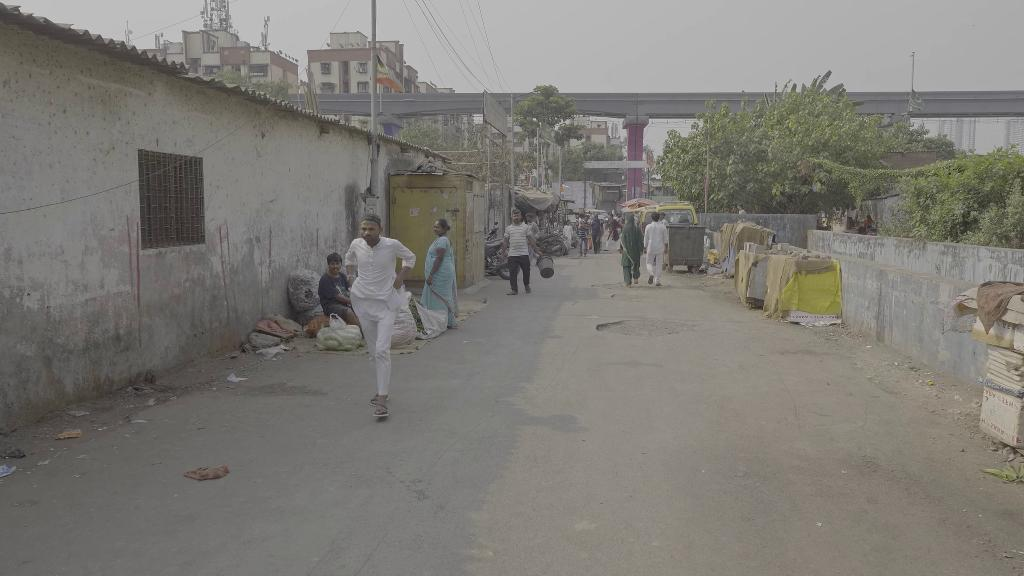garbage: (253, 343, 289, 361), (55, 425, 85, 441), (0, 462, 18, 481), (225, 373, 252, 384)
